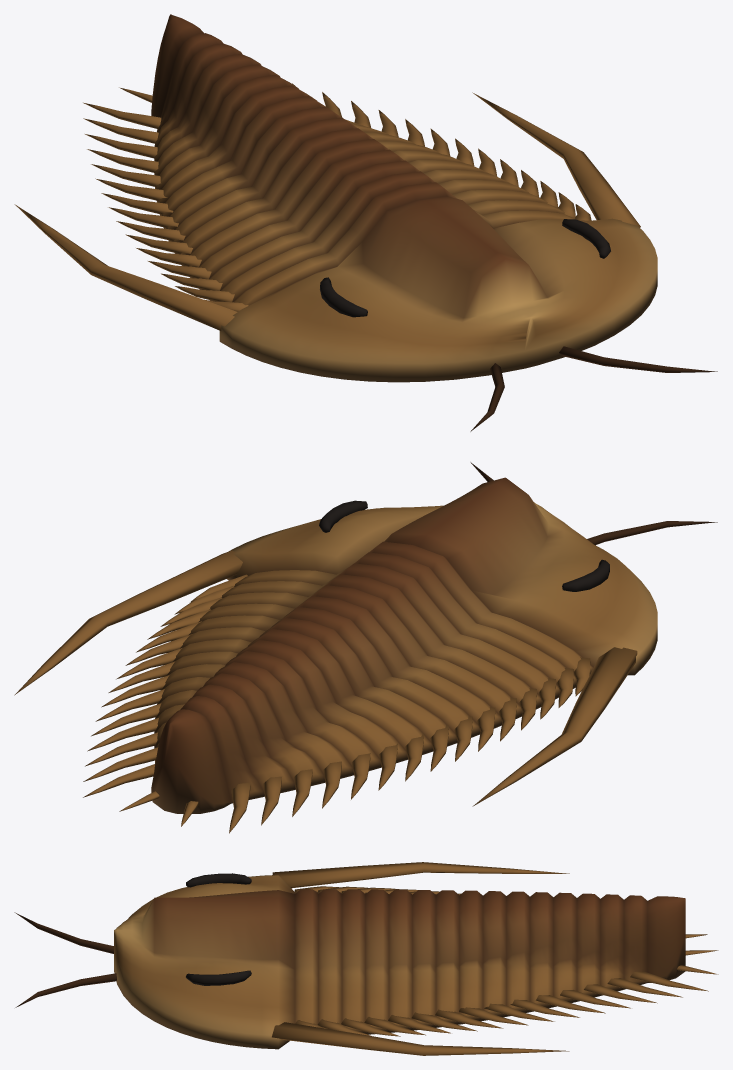
The model's file is Redlichia.fbx.
3 renders of one model, top to bottom at view 1: azimuth 30°, elevation 25°; view 2: azimuth 150°, elevation 25°; view 3: azimuth 270°, elevation 25°, orthographic. The views are drawn at different scales.
Parts seen in each view (by area): view 1: Redlichia; view 2: Redlichia; view 3: Redlichia.
Boxes of the visible parts, x1,y1,x2,y2 form: Redlichia: (14,14,717,431); Redlichia: (14,462,717,833); Redlichia: (14,862,718,1055).
Size of the model in its own units: 0.9467 by 0.165 by 1.48.
